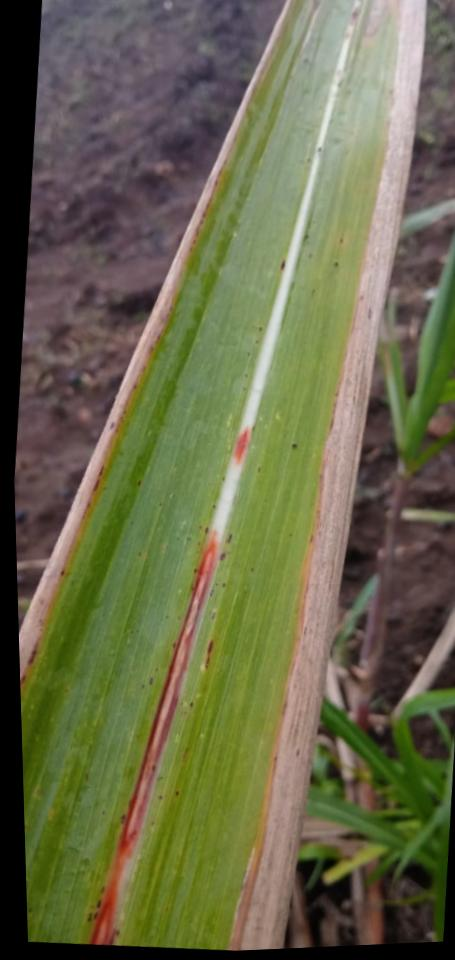RedRot: (88, 529, 217, 945), (232, 425, 248, 466)
Rust: (202, 638, 214, 670), (278, 257, 285, 272), (224, 532, 232, 545), (217, 551, 226, 562), (85, 910, 93, 922), (119, 813, 127, 825), (84, 771, 91, 783), (92, 910, 99, 921), (135, 479, 142, 488), (147, 676, 153, 686), (209, 611, 215, 621), (289, 443, 297, 450), (95, 899, 101, 908), (255, 466, 261, 475), (203, 526, 209, 534), (100, 885, 105, 894), (149, 820, 155, 827), (337, 238, 343, 245), (174, 790, 179, 798), (170, 641, 175, 649), (332, 261, 338, 267), (210, 504, 216, 510), (27, 907, 33, 913), (157, 794, 162, 801), (192, 567, 197, 574), (114, 929, 119, 936), (100, 809, 104, 817), (196, 541, 201, 547), (196, 525, 202, 530), (163, 614, 168, 620), (136, 552, 141, 558), (128, 519, 133, 525), (220, 476, 225, 482), (253, 339, 258, 345), (188, 702, 193, 707), (208, 592, 213, 597), (243, 373, 248, 378), (221, 582, 225, 588), (249, 566, 253, 572), (176, 615, 180, 621), (246, 351, 250, 357), (157, 503, 162, 507), (170, 494, 175, 498), (258, 326, 261, 332), (209, 589, 213, 593), (214, 583, 218, 587), (242, 388, 246, 392)
Yellow: (227, 0, 426, 950), (19, 0, 291, 683)
